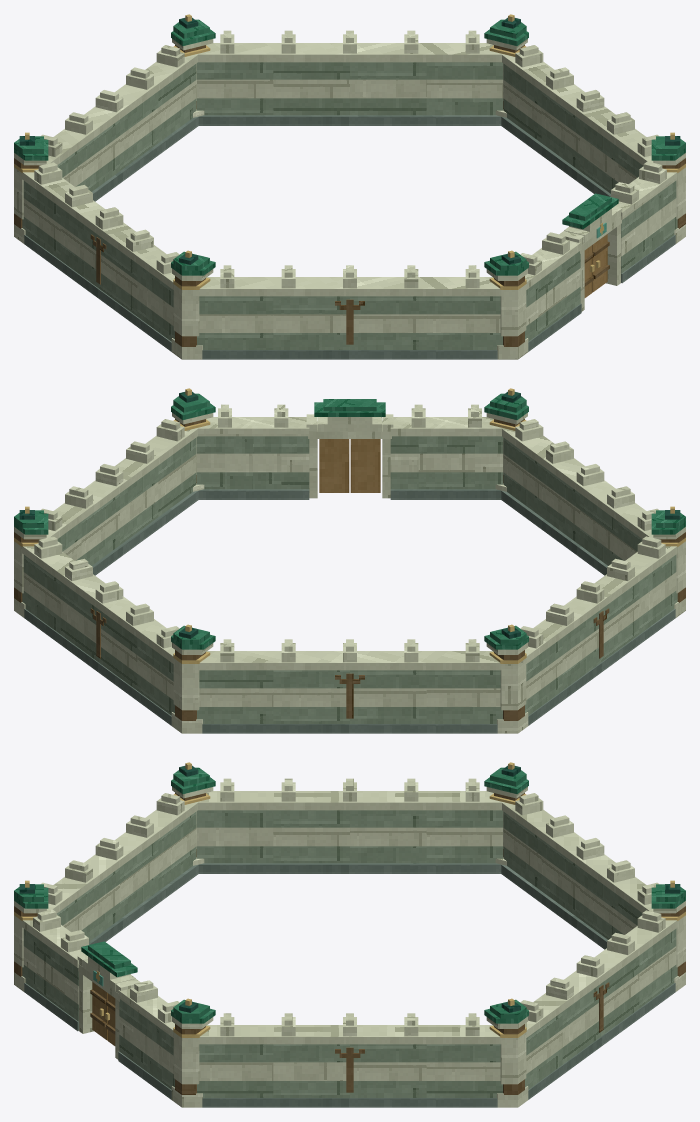
Rendered from elf_walls_level_2_hex_v1.glb.
The picture shows the model from 3 angles, top to bottom: view 1: azimuth 30°, elevation 25°; view 2: azimuth 150°, elevation 25°; view 3: azimuth 270°, elevation 25°; orthographic projection.
Visible parts, largest first — view 1: Elf_Walls_Level_2_Hex_V1_Architecture; view 2: Elf_Walls_Level_2_Hex_V1_Architecture; view 3: Elf_Walls_Level_2_Hex_V1_Architecture.
Boxes of the visible parts, x1,y1,x2,y2 form: Elf_Walls_Level_2_Hex_V1_Architecture: (14,14,685,359); Elf_Walls_Level_2_Hex_V1_Architecture: (14,388,685,733); Elf_Walls_Level_2_Hex_V1_Architecture: (14,762,685,1107).
Bounding box in the file's own units: 1.71 × 0.333 × 1.97.
1 material, 1 textured.
